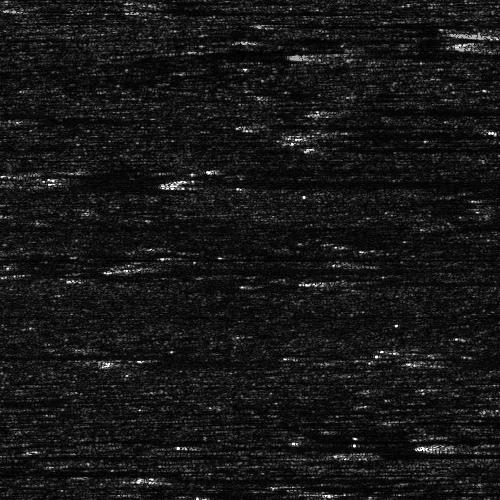rock: (97, 471, 212, 482), (0, 163, 61, 180), (303, 449, 418, 458), (298, 276, 391, 287), (0, 112, 55, 127), (96, 259, 159, 270), (297, 106, 370, 113), (415, 356, 468, 365), (307, 142, 360, 149), (0, 449, 34, 458), (236, 20, 289, 25), (112, 8, 165, 13), (471, 404, 500, 413), (0, 6, 40, 11), (487, 224, 500, 235), (0, 0, 24, 1)
shadow: (128, 259, 440, 270), (155, 471, 401, 482), (20, 163, 172, 180), (14, 112, 165, 127), (345, 276, 500, 287), (0, 463, 168, 472), (0, 449, 148, 458), (361, 449, 500, 458), (139, 8, 382, 13), (334, 106, 500, 113), (334, 142, 495, 149), (0, 348, 112, 357), (0, 396, 134, 403), (0, 64, 78, 75), (263, 20, 426, 25), (442, 356, 500, 365), (334, 132, 500, 135), (20, 6, 99, 11), (399, 446, 500, 449), (0, 0, 78, 1)
